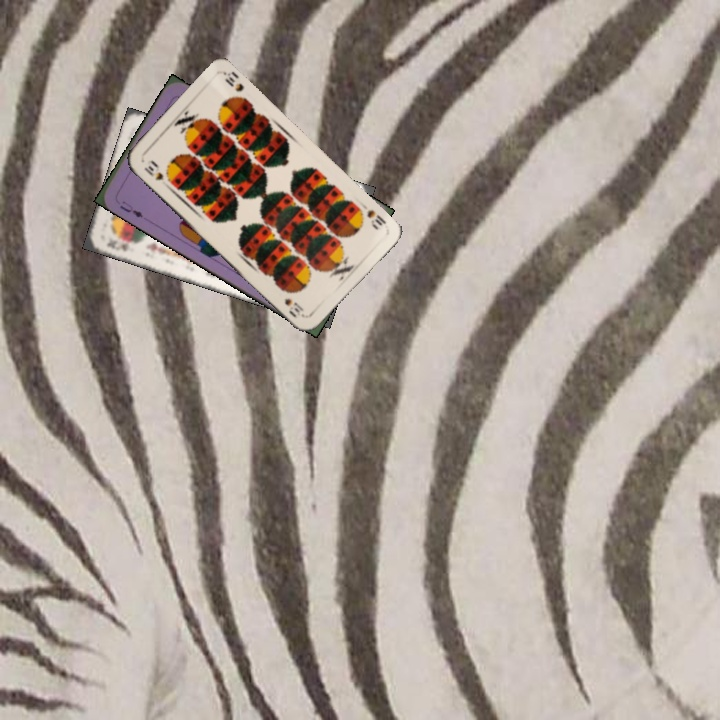EU: (115, 197, 146, 220)
S10: (362, 206, 389, 232), (140, 157, 166, 183)
SK: (103, 234, 131, 253)
